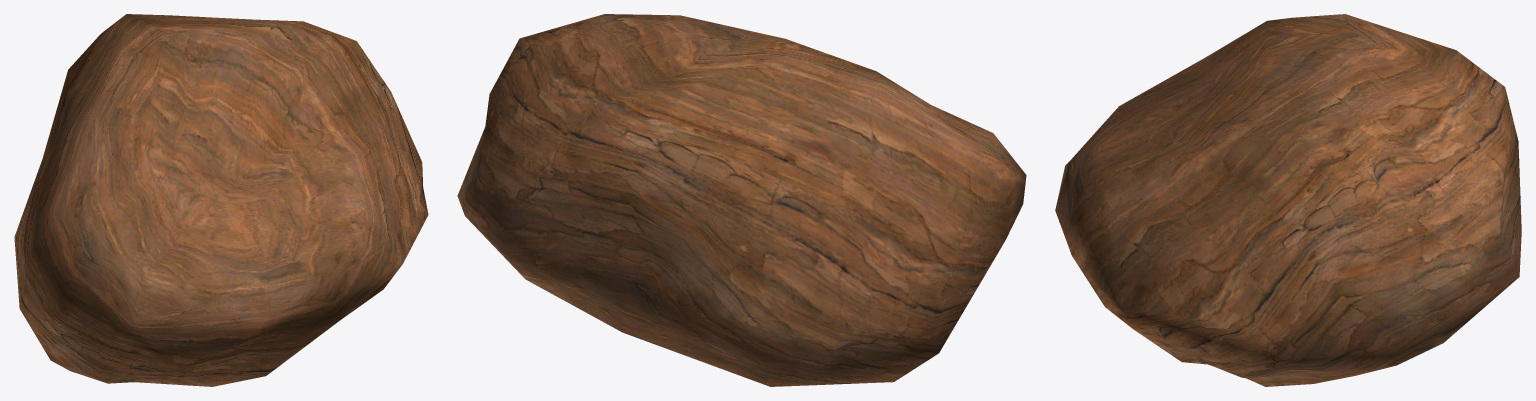
Rendered from rock_tatt_jundland_boulder_a3_l1.fbx.
The picture shows the model from 3 angles, left to right: view 1: azimuth 30°, elevation 25°; view 2: azimuth 150°, elevation 25°; view 3: azimuth 270°, elevation 25°; orthographic projection. The views are drawn at different scales.
Visible parts, largest first — view 1: mesh_node; view 2: mesh_node; view 3: mesh_node.
Boxes of the visible parts, x1,y1,x2,y2 form: mesh_node: (14,14,428,386); mesh_node: (457,14,1026,386); mesh_node: (1055,14,1521,386).
Bounding box in the file's own units: 2.43 × 1.74 × 2.21.
